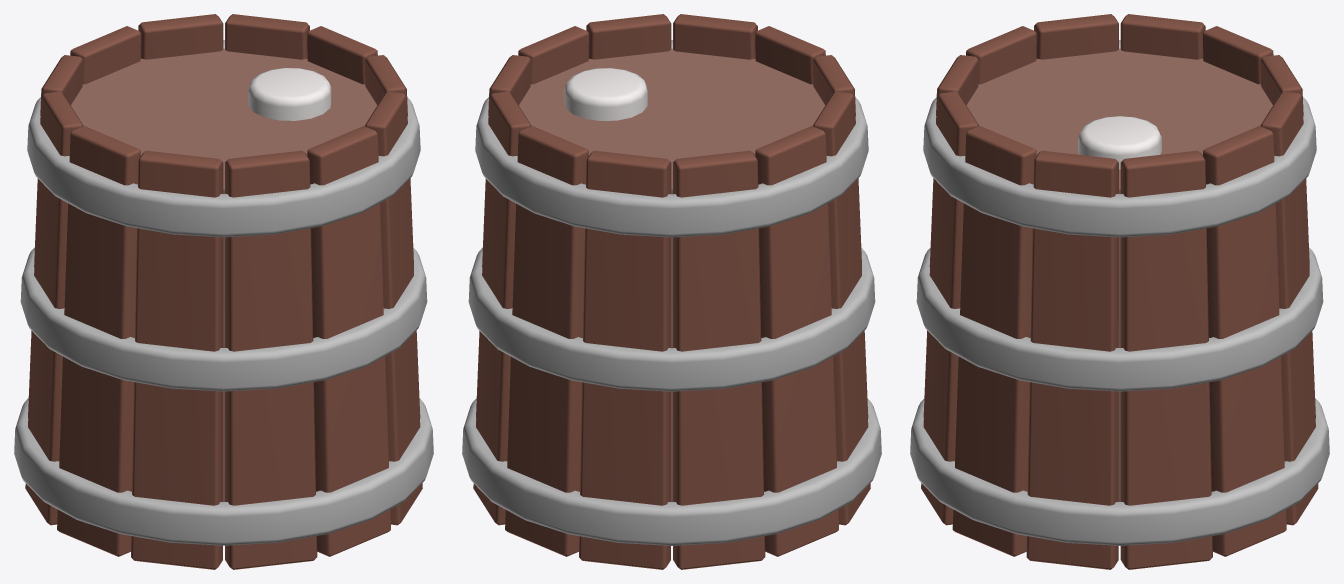
The model's file is Farm_14_Barrel_2.glb.
3 renders of one model, left to right at view 1: azimuth 30°, elevation 25°; view 2: azimuth 150°, elevation 25°; view 3: azimuth 270°, elevation 25°, orthographic.
Parts seen in each view (by area): view 1: Farm_14_Barrel_2; view 2: Farm_14_Barrel_2; view 3: Farm_14_Barrel_2.
Boxes of the visible parts, bbox=[...] form: Farm_14_Barrel_2: bbox=[14, 14, 433, 569]; Farm_14_Barrel_2: bbox=[462, 14, 881, 569]; Farm_14_Barrel_2: bbox=[910, 14, 1329, 569].
Size of the model in its own units: 0.8921 by 0.9328 by 0.8921.
Materials: 1 (1 with a texture image).
